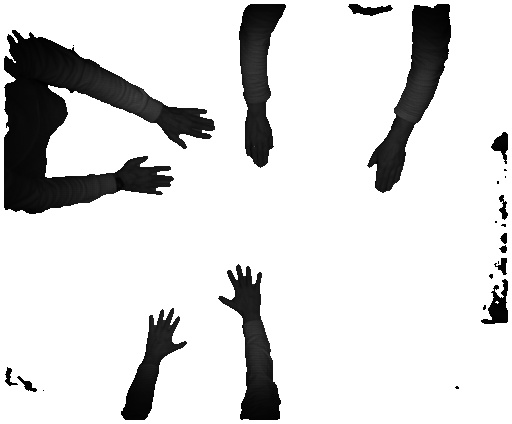hand: (136, 304, 191, 363), (360, 137, 410, 199), (216, 264, 263, 319), (165, 102, 215, 151), (121, 157, 175, 199), (243, 116, 279, 167)
